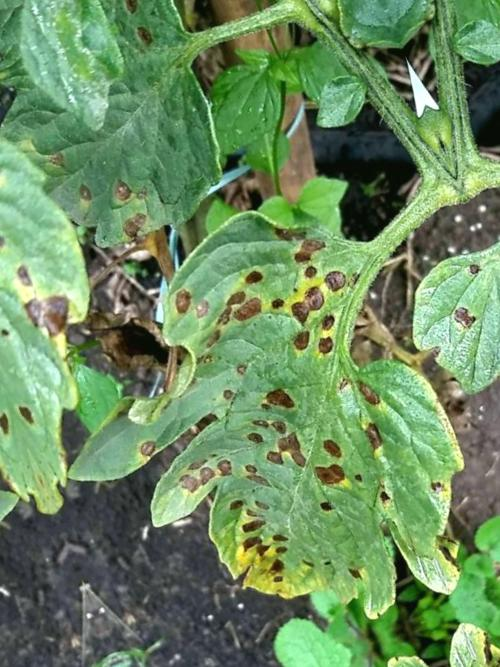Tomato Early blight leaf: (12, 190, 480, 667), (0, 1, 275, 280)
